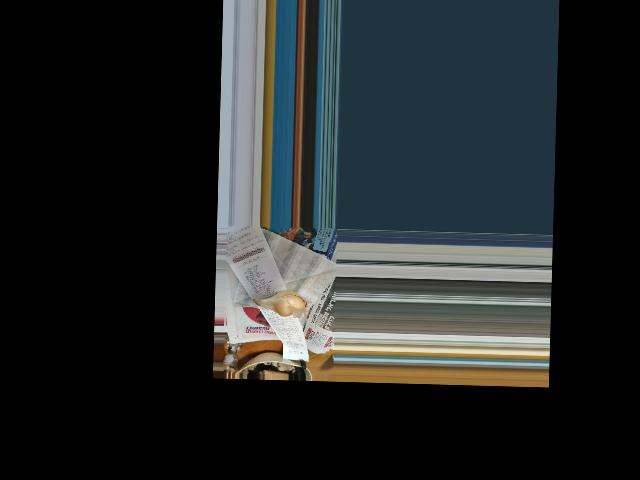onion: (262, 290, 306, 314)
